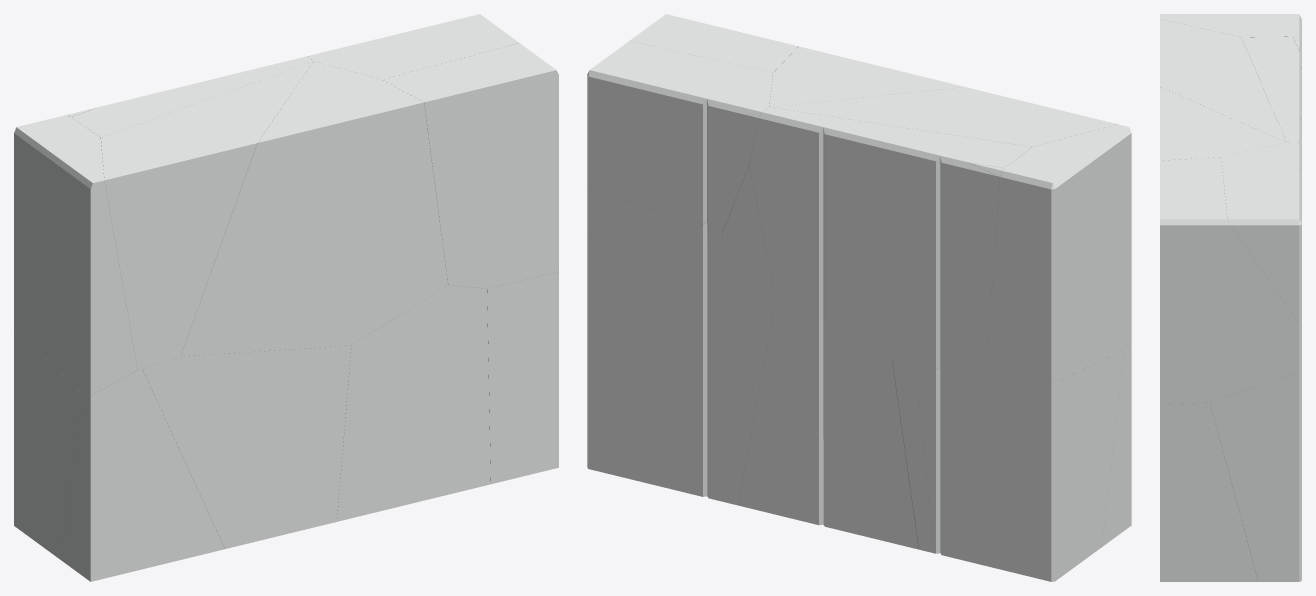
The model's file is Tu_Giay_Fractured.fbx.
3 views of the same model, side by side, from view 1: azimuth 30°, elevation 25°; view 2: azimuth 150°, elevation 25°; view 3: azimuth 270°, elevation 25° (orthographic). The views are drawn at different scales.
Visible parts, largest first — view 1: tu_ke2_cell.002, tu_ke2_cell.010, tu_ke2_cell.013, tu_ke2_cell.004, tu_ke2_cell.005, tu_ke2_cell.001, tu_ke2_cell.006, tu_ke2_cell.011, tu_ke2_cell.009, tu_ke2_cell, tu_ke2_cell.012; view 2: tu_ke2_cell.012, tu_ke2_cell.008, tu_ke2_cell.009, tu_ke2_cell.001, tu_ke2_cell.007, tu_ke2_cell, tu_ke2_cell.013, tu_ke2_cell.004, tu_ke2_cell.002, tu_ke2_cell.010, tu_ke2_cell.006; view 3: tu_ke2_cell.004, tu_ke2_cell.008, tu_ke2_cell.011, tu_ke2_cell, tu_ke2_cell.013, tu_ke2_cell.002, tu_ke2_cell.012, tu_ke2_cell.001.
Boxes of the visible parts, x1=… form: tu_ke2_cell.002: x1=181, y1=61, x2=447, y2=356; tu_ke2_cell.010: x1=142, y1=345, x2=351, y2=548; tu_ke2_cell.013: x1=101, y1=61, x2=313, y2=369; tu_ke2_cell.004: x1=382, y1=43, x2=558, y2=288; tu_ke2_cell.005: x1=337, y1=285, x2=490, y2=521; tu_ke2_cell.001: x1=14, y1=115, x2=137, y2=395; tu_ke2_cell.006: x1=61, y1=369, x2=224, y2=581; tu_ke2_cell.011: x1=487, y1=272, x2=558, y2=484; tu_ke2_cell.009: x1=14, y1=327, x2=82, y2=559; tu_ke2_cell: x1=308, y1=14, x2=518, y2=79; tu_ke2_cell.012: x1=71, y1=56, x2=313, y2=138; tu_ke2_cell.012: x1=749, y1=107, x2=1031, y2=370; tu_ke2_cell.008: x1=587, y1=237, x2=777, y2=505; tu_ke2_cell.009: x1=916, y1=349, x2=1123, y2=581; tu_ke2_cell.001: x1=986, y1=124, x2=1131, y2=382; tu_ke2_cell.007: x1=738, y1=292, x2=918, y2=549; tu_ke2_cell: x1=587, y1=41, x2=772, y2=230; tu_ke2_cell.013: x1=770, y1=87, x2=1117, y2=146; tu_ke2_cell.004: x1=587, y1=14, x2=798, y2=242; tu_ke2_cell.002: x1=721, y1=46, x2=964, y2=286; tu_ke2_cell.010: x1=892, y1=361, x2=933, y2=553; tu_ke2_cell.006: x1=1102, y1=340, x2=1131, y2=546; tu_ke2_cell.004: x1=1160, y1=157, x2=1301, y2=403; tu_ke2_cell.008: x1=1210, y1=370, x2=1301, y2=581; tu_ke2_cell.011: x1=1160, y1=402, x2=1258, y2=581; tu_ke2_cell: x1=1221, y1=142, x2=1301, y2=325; tu_ke2_cell.013: x1=1160, y1=19, x2=1286, y2=142; tu_ke2_cell.002: x1=1160, y1=87, x2=1286, y2=160; tu_ke2_cell.012: x1=1241, y1=36, x2=1301, y2=148; tu_ke2_cell.001: x1=1160, y1=14, x2=1301, y2=41.
Bounding box in the file's own units: 1106 × 899 × 319.
